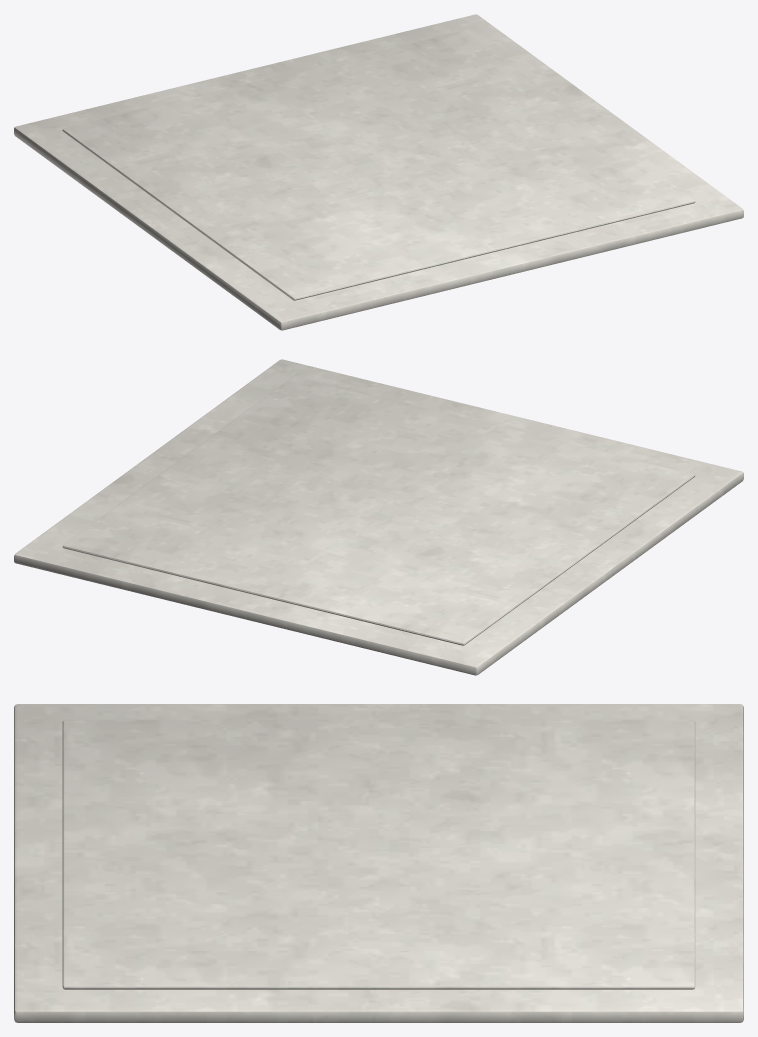
The model's file is REV-GES-002_lod1.glb.
The picture shows the model from 3 angles, top to bottom: view 1: azimuth 30°, elevation 25°; view 2: azimuth 150°, elevation 25°; view 3: azimuth 270°, elevation 25°; orthographic projection. The views are drawn at different scales.
Parts seen in each view (by area): view 1: REV-GES-002_rebaixo, REV-GES-002_placa; view 2: REV-GES-002_rebaixo, REV-GES-002_placa; view 3: REV-GES-002_rebaixo, REV-GES-002_placa.
Part boxes in pixels (x1,y1,x2,y2): REV-GES-002_rebaixo: (62,31,695,300); REV-GES-002_placa: (14,14,743,330); REV-GES-002_rebaixo: (62,376,695,645); REV-GES-002_placa: (14,359,743,675); REV-GES-002_rebaixo: (62,719,695,989); REV-GES-002_placa: (14,704,743,1022).
Bounding box in the file's own units: 0.6 × 0.016 × 0.6.
Materials: 1 (1 with a texture image).
